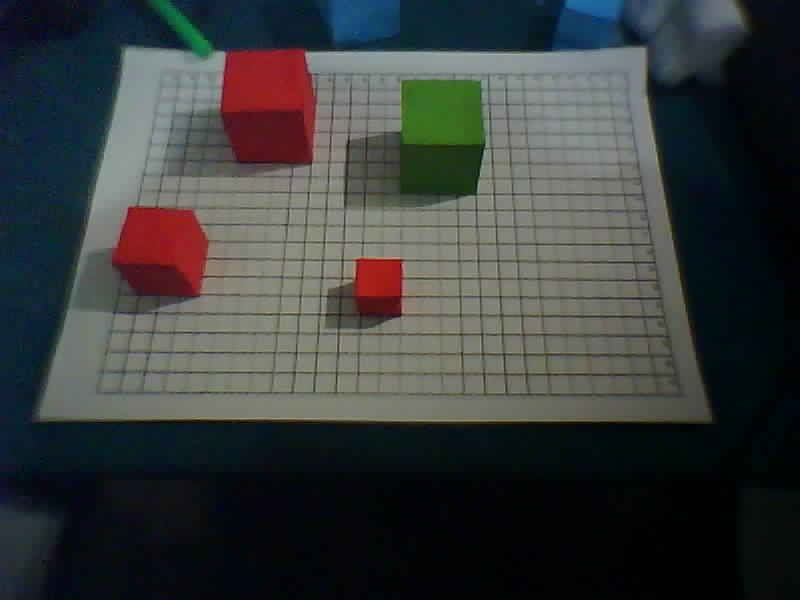LB: (94, 389, 102, 395)
LT: (159, 69, 167, 75)
RB: (678, 391, 686, 397)
RT: (622, 69, 630, 75)
